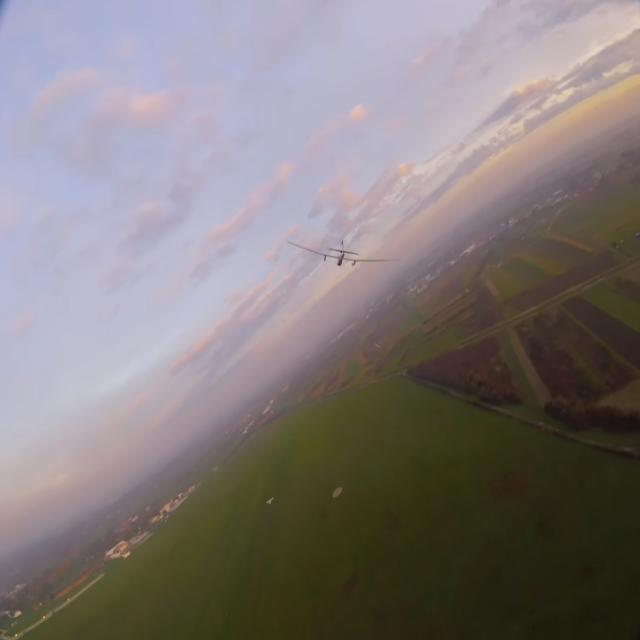iha: (317, 235, 367, 269)
